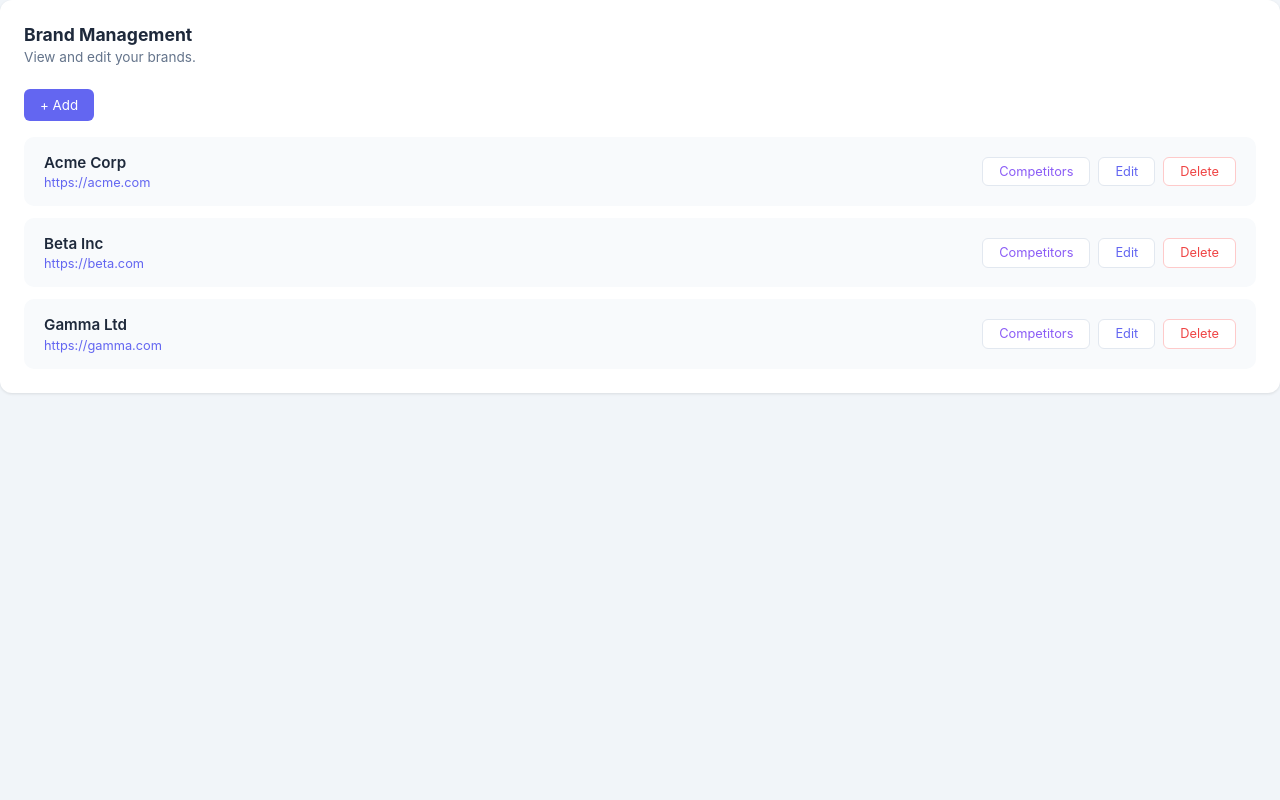
Test case: BrandManagement — Brand CRUD › saves brand and shows success banner
This screenshot has width=1280, height=800.
Expected: the text "Acme Corp" is shown, [44,153,126,172]
Click the button "Edit" in the row of "https://acme.com" at (1127, 172), box [1098,157,1155,186]
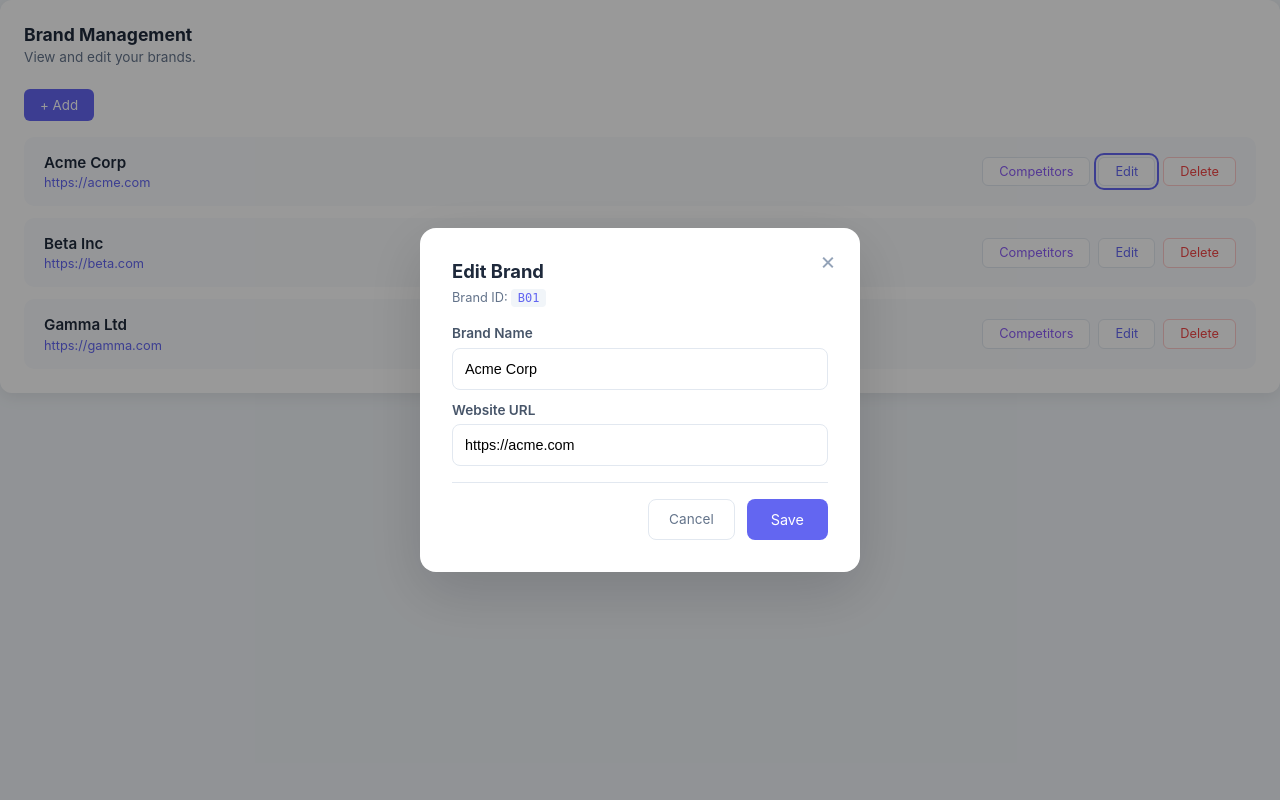
Result: the heading "Edit Brand" is shown at [452,260,544,282]
Clear the 1st field with placeholder "Brand name" at (640, 368), box [452,348,828,390]
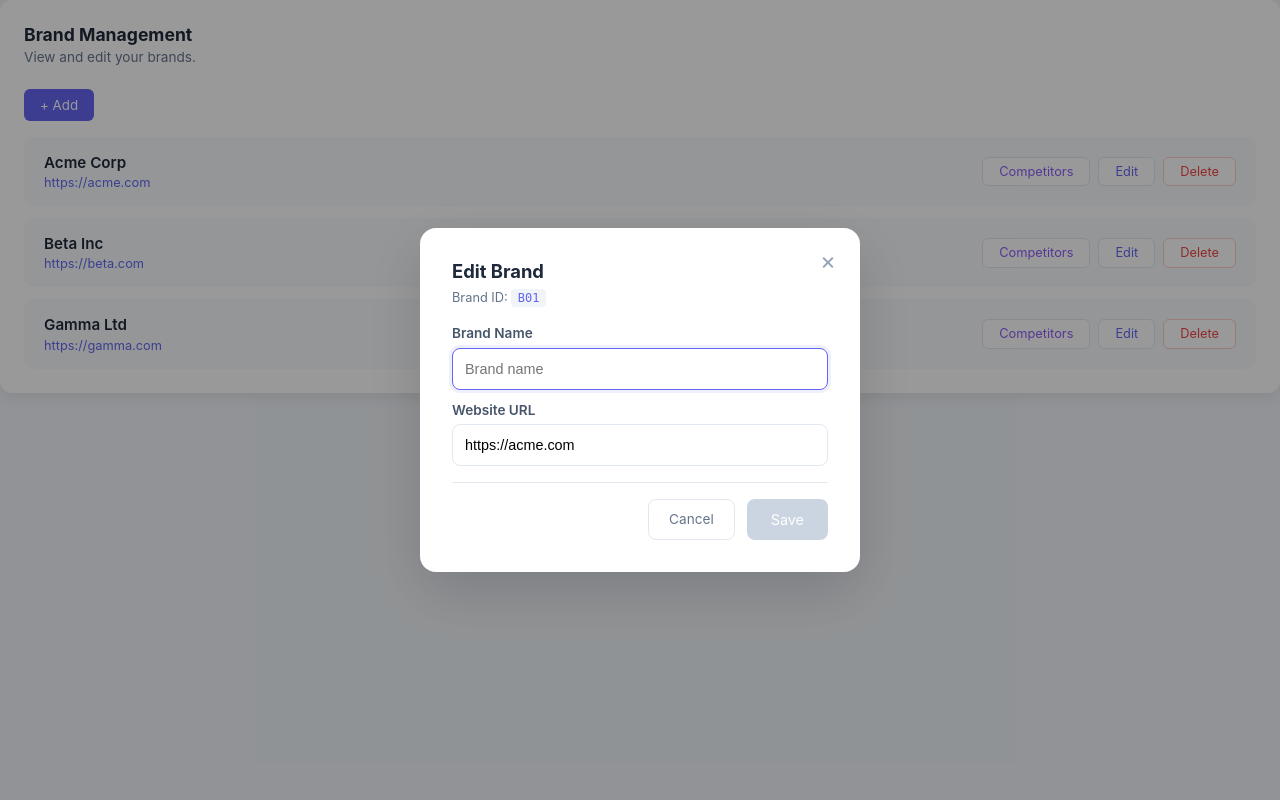
Type keys "Acme Updated"
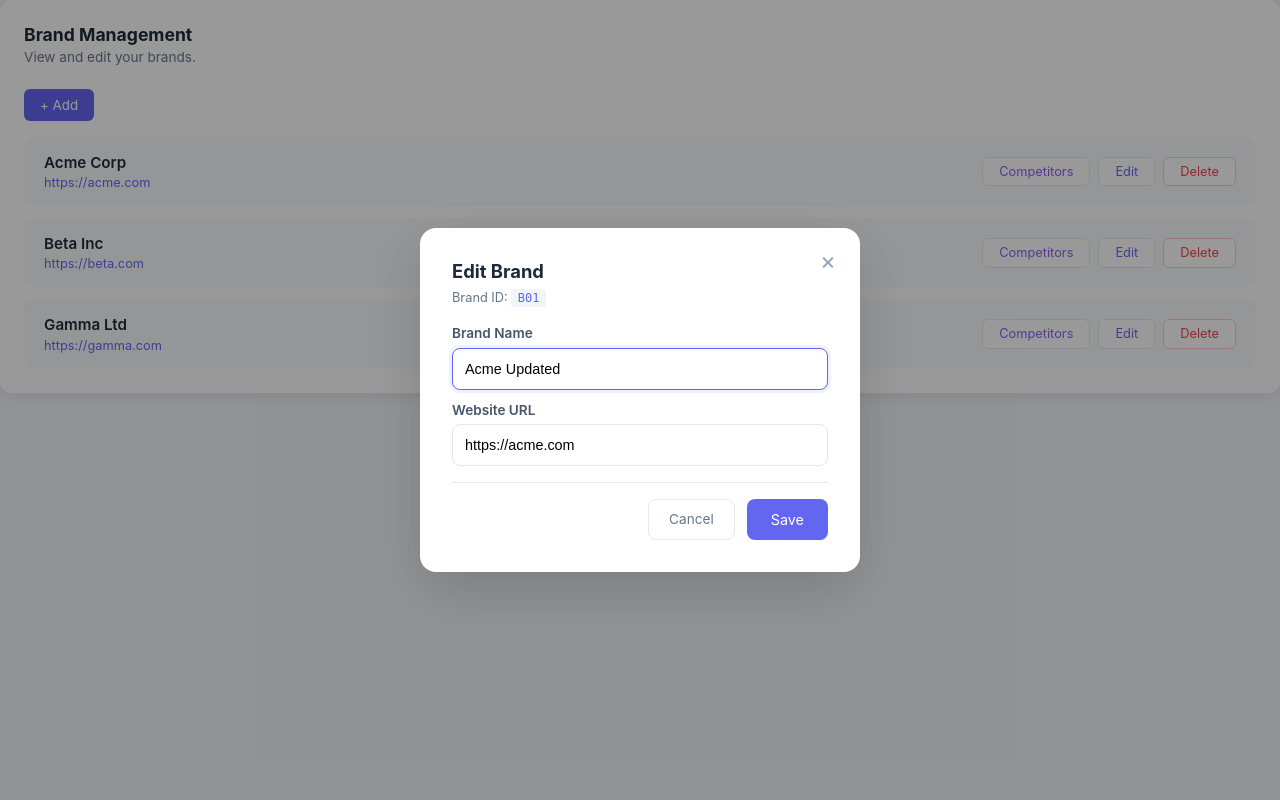
Click the button "Save" at (787, 519), box [747,499,828,540]
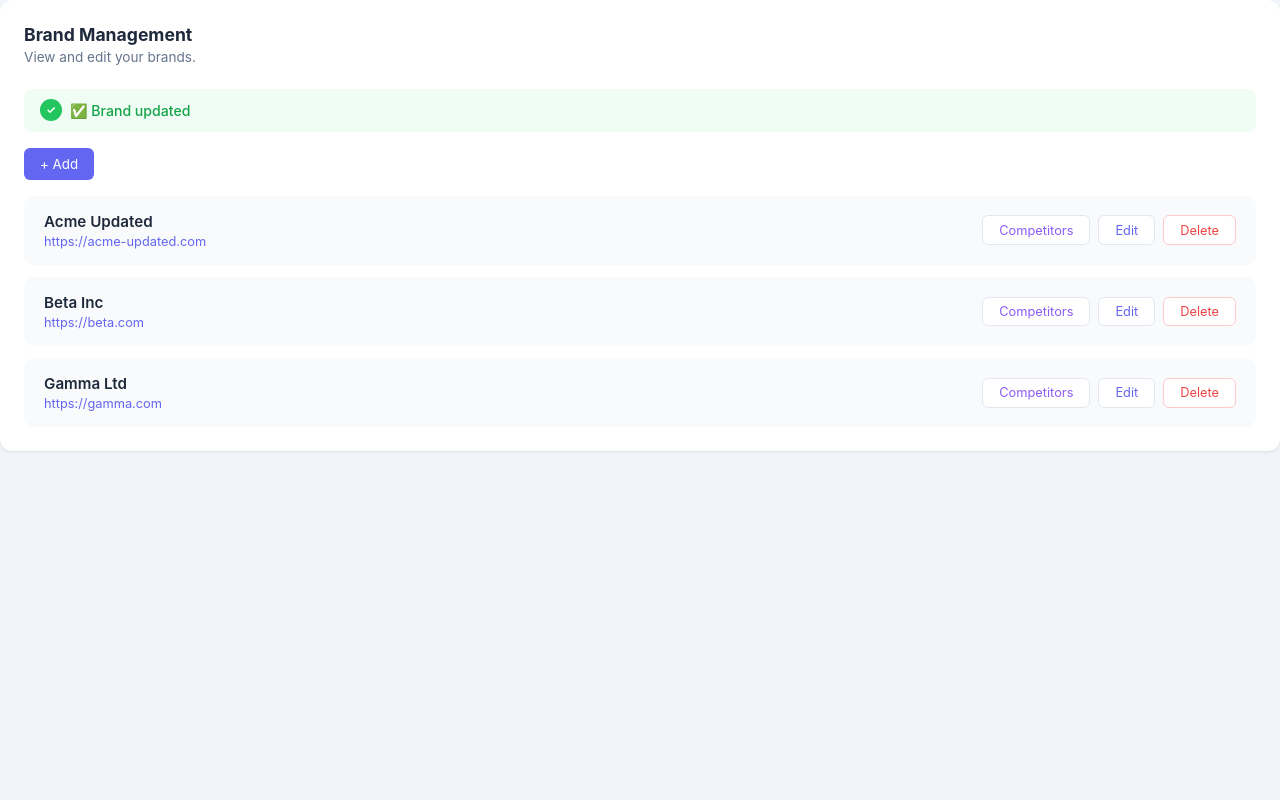
Result: the heading "Edit Brand" is gone
Result: the text "✓ ✅ Brand updated" is shown at [24,89,1256,132]
Result: the text "Acme Updated" is shown at [44,212,153,231]
